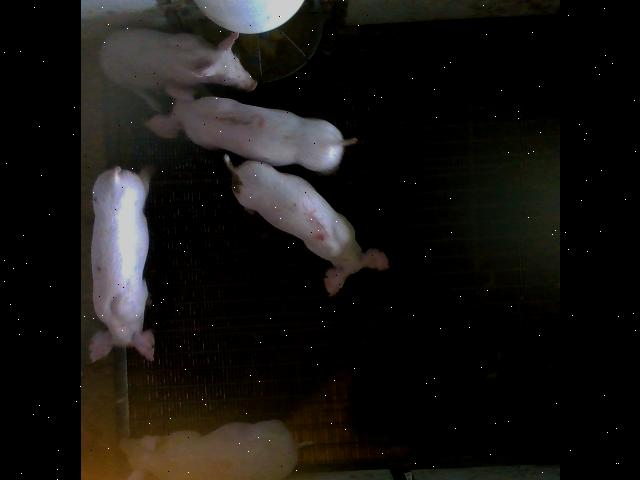pig-3: (144, 86, 356, 175)
pig-4: (119, 420, 309, 480)
pig-5: (223, 155, 389, 295)
